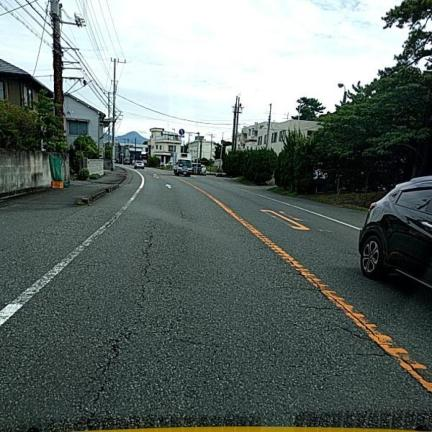Road: (0, 169, 431, 430)
